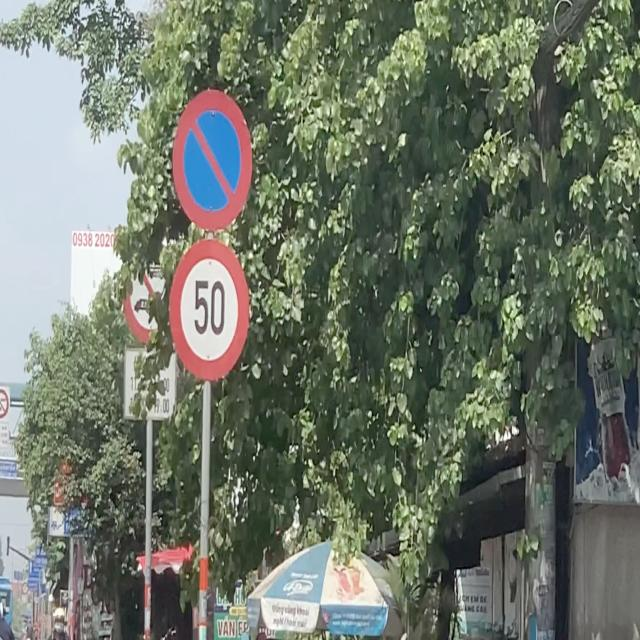Cam do: (167, 90, 257, 228)
Toc do toi da: (168, 230, 244, 386)
